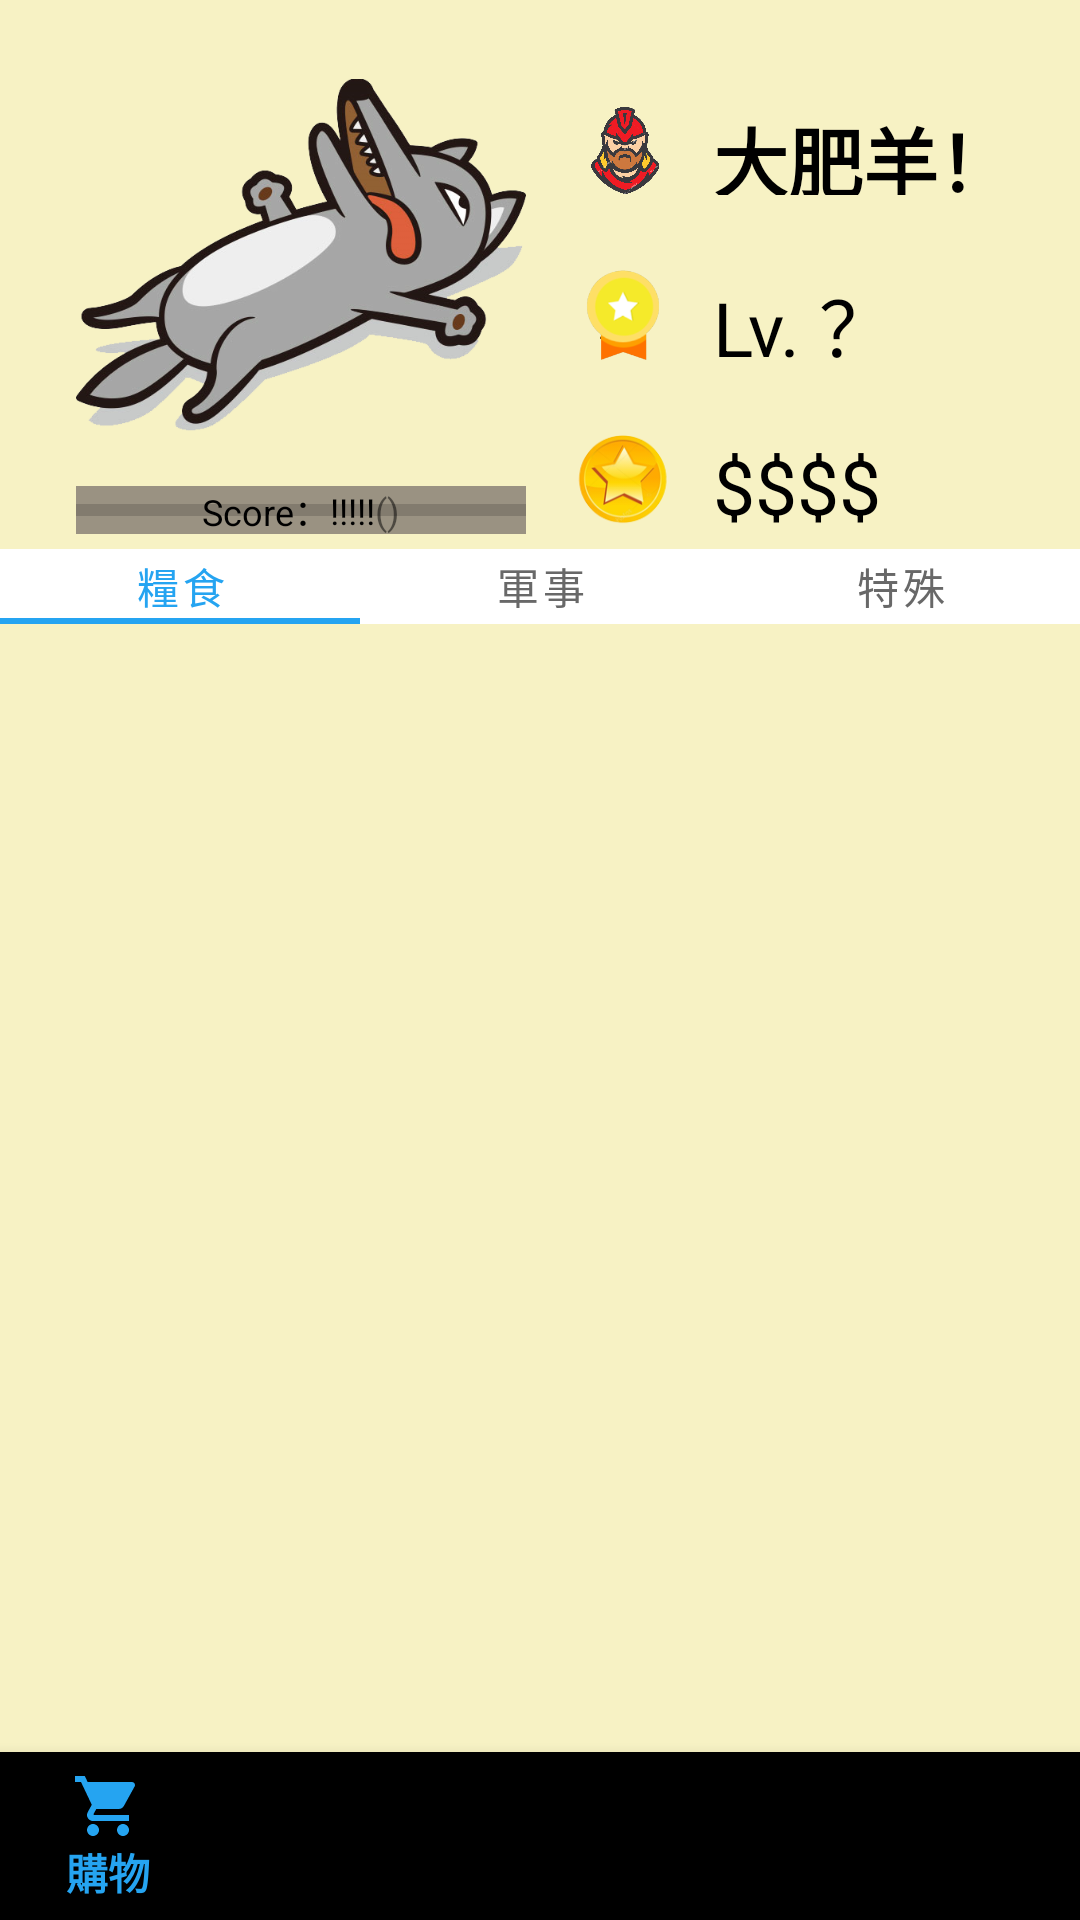

Screen size 1080 x 1920. Icon name, then its box in pixels as {"x1": x1, "y1": y1, "x2": x2, "y2": y2}:
level: {"x1": 587, "y1": 270, "x2": 659, "y2": 360}
moneycoin: {"x1": 579, "y1": 435, "x2": 667, "y2": 523}
peopleicon: {"x1": 591, "y1": 107, "x2": 659, "y2": 194}
